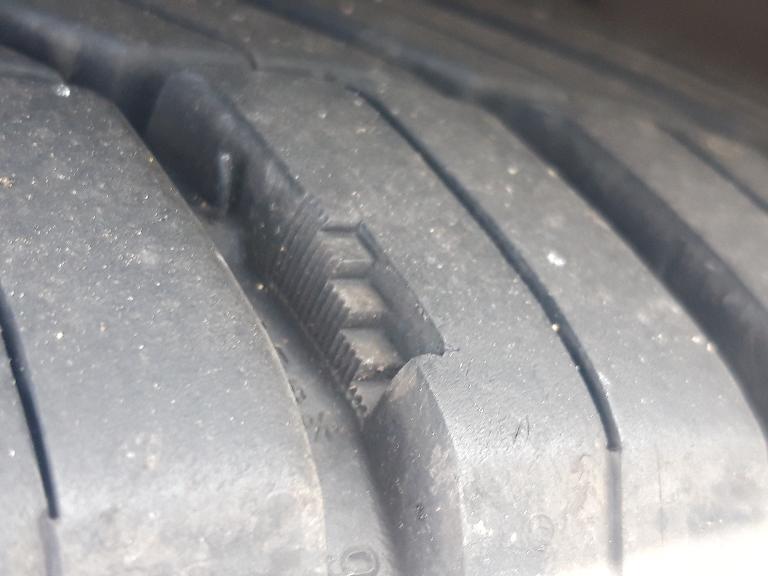temoin:90: (259, 180, 466, 443)
